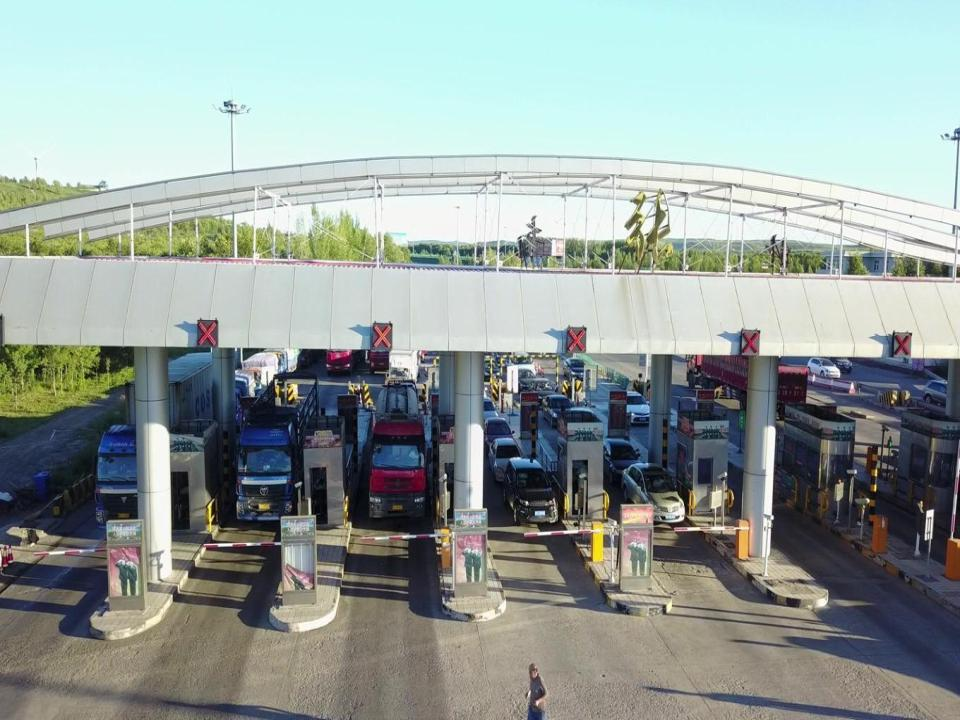car: (622, 463, 684, 524), (504, 457, 558, 524), (594, 438, 642, 482), (489, 438, 523, 480), (614, 390, 652, 426), (480, 417, 514, 455), (924, 378, 958, 414), (542, 395, 572, 426), (807, 357, 841, 383), (505, 351, 535, 379), (529, 377, 556, 406), (508, 366, 535, 394), (562, 358, 593, 381), (472, 397, 496, 426), (824, 350, 852, 374), (480, 358, 500, 381)
truck: (96, 348, 230, 531), (237, 372, 319, 518), (687, 345, 807, 420), (370, 381, 433, 519), (326, 296, 381, 374), (369, 301, 429, 372), (220, 368, 254, 433), (240, 351, 277, 405), (386, 342, 422, 395), (292, 315, 326, 368), (260, 344, 300, 385)
